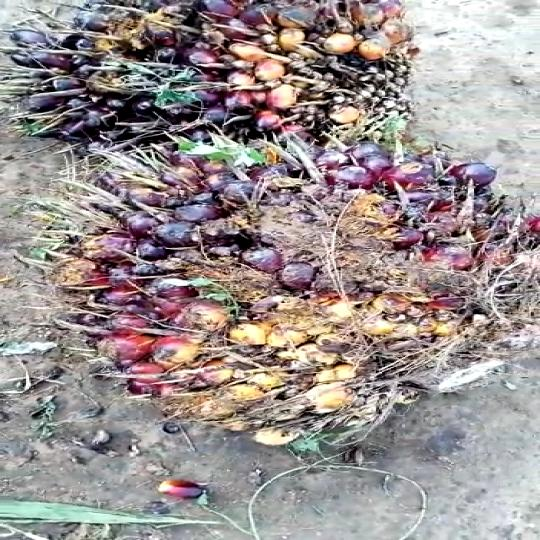kurang masak: (27, 140, 540, 455), (10, 0, 432, 169)
